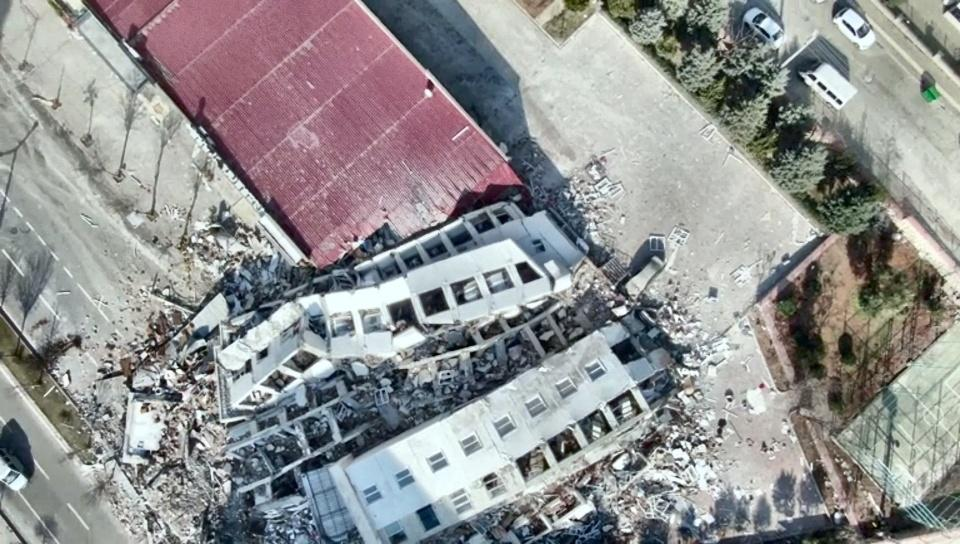kapali: (16, 250, 418, 543)
